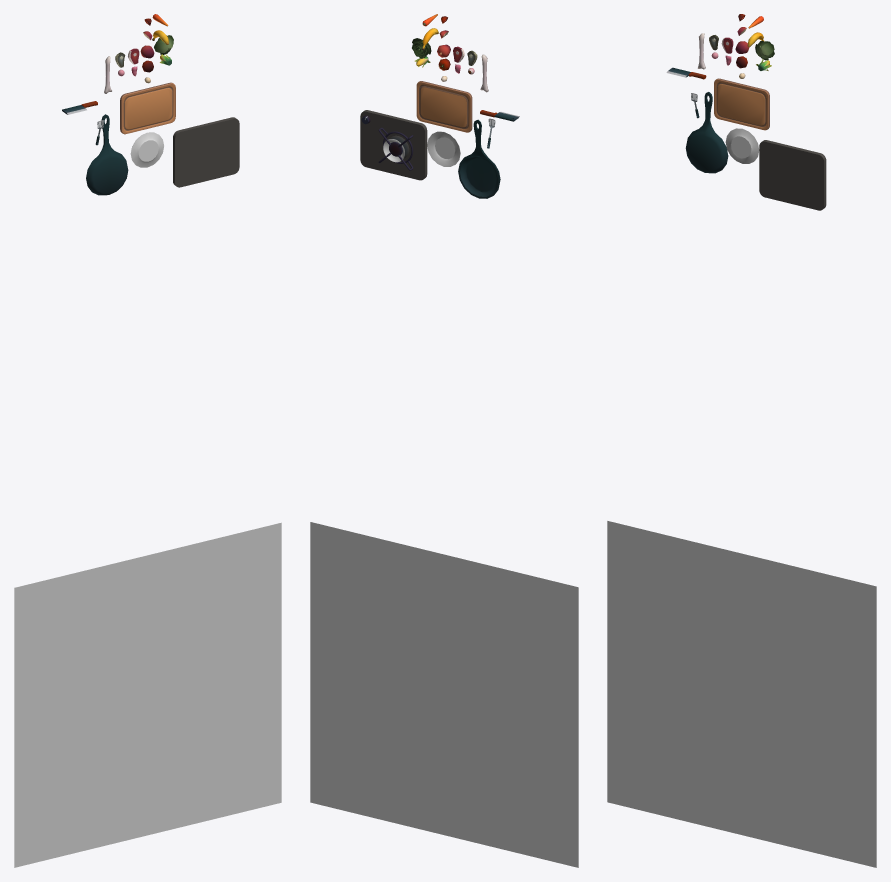
The model's file is items - Copie.dae.
The picture shows the model from 3 angles, left to right: view 1: azimuth 30°, elevation 25°; view 2: azimuth 150°, elevation 25°; view 3: azimuth 330°, elevation 25°; orthographic projection.
Parts seen in each view (by area): view 1: Plane.001, GasStove, cuttingboard, skillet, plate; view 2: Plane.001, GasStove, cuttingboard, skillet, plate; view 3: Plane.001, GasStove, cuttingboard, skillet, plate.
Boxes of the visible parts, box(x1,y1,x2,y2) form: Plane.001: box(14, 522, 281, 867); GasStove: box(173, 117, 239, 187); cuttingboard: box(120, 82, 175, 134); skillet: box(86, 114, 128, 195); plate: box(130, 132, 163, 167); Plane.001: box(310, 522, 578, 867); GasStove: box(360, 110, 427, 180); cuttingboard: box(416, 81, 472, 132); skillet: box(458, 119, 500, 198); plate: box(427, 131, 460, 166); Plane.001: box(607, 521, 876, 867); GasStove: box(759, 140, 826, 210); cuttingboard: box(714, 78, 769, 130); skillet: box(685, 92, 728, 173); plate: box(725, 128, 759, 163).
Bounding box in the file's own units: 2 × 0.2009 × 5.83.
